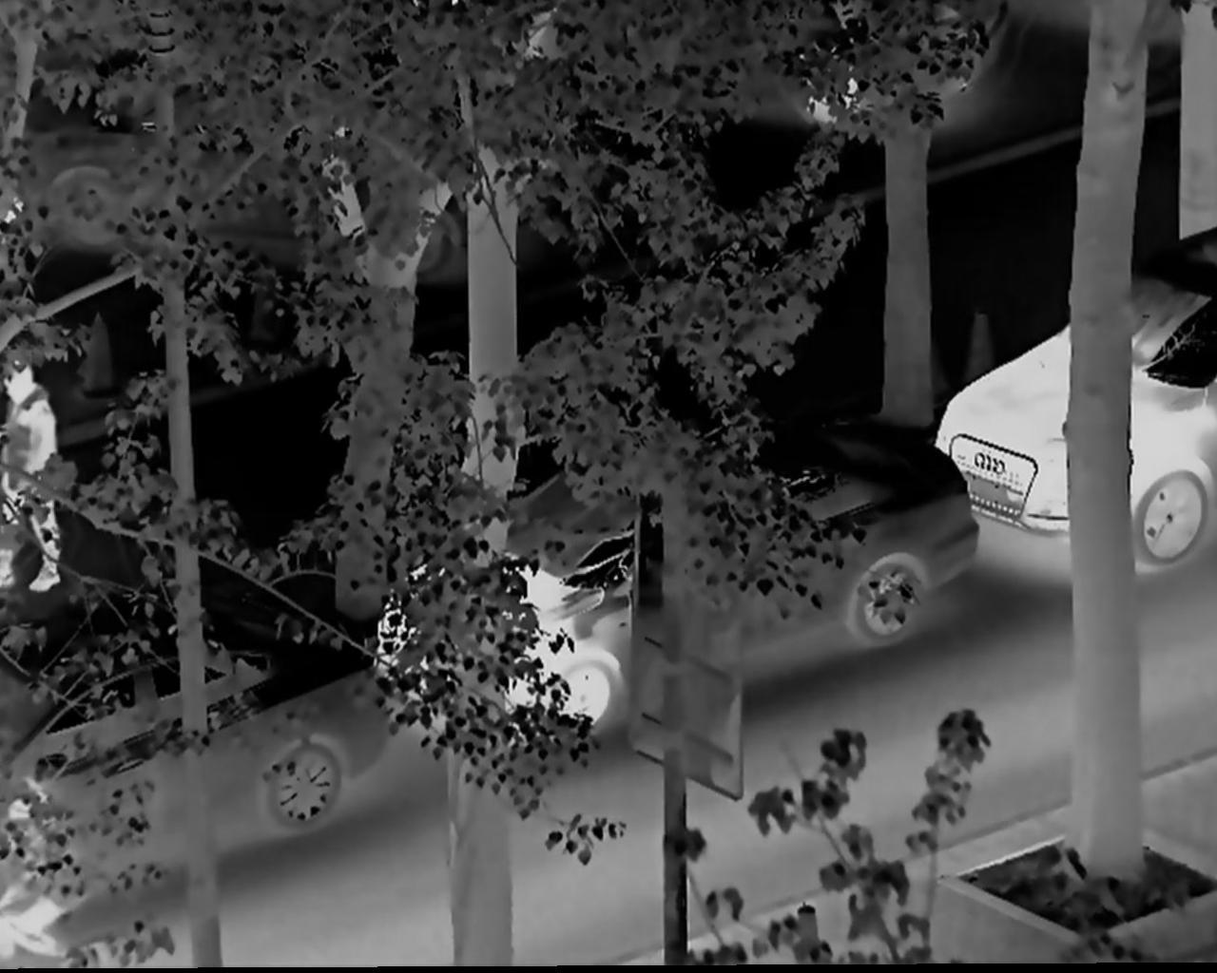person: (3, 357, 74, 608)
